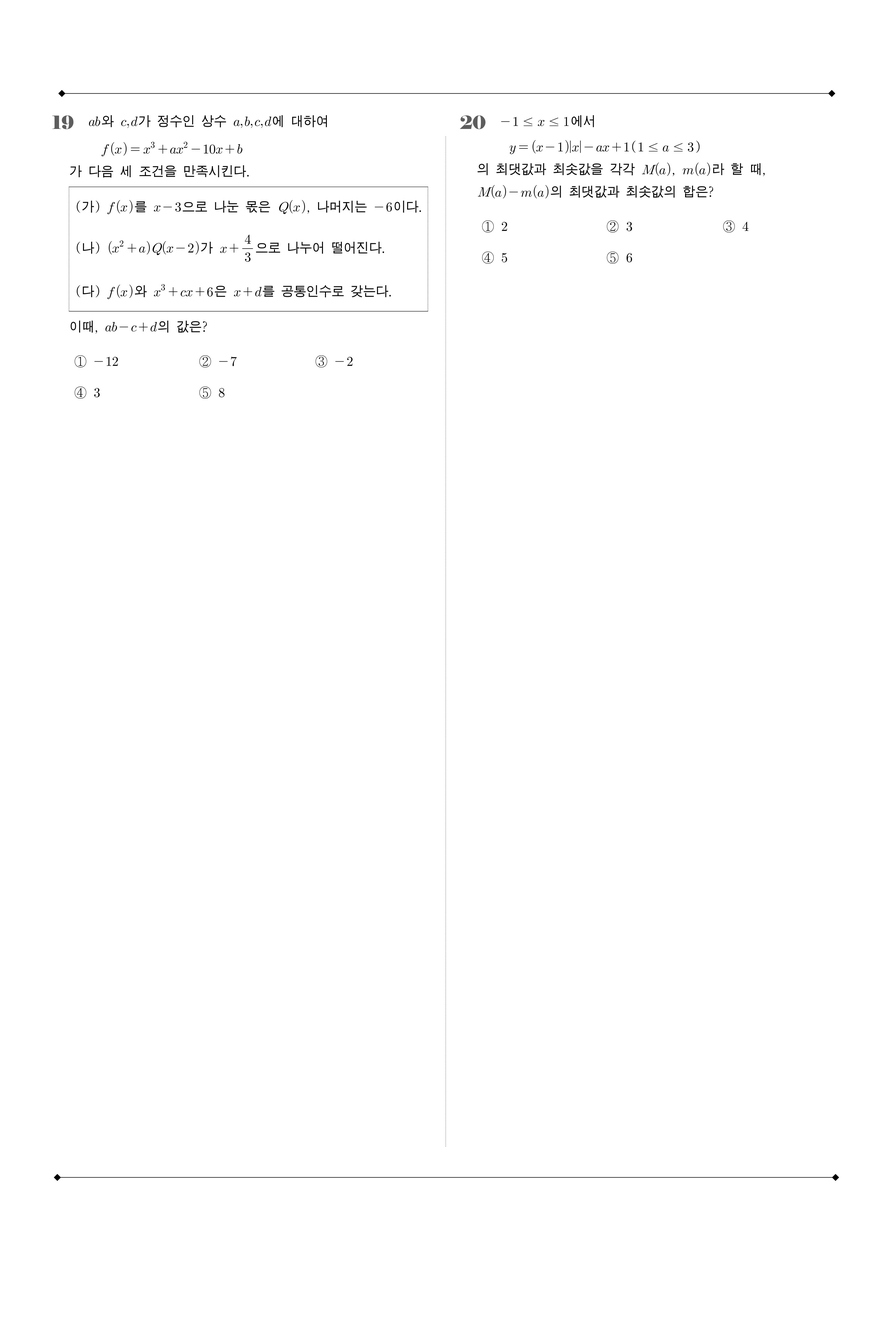problem: (46, 106, 434, 410), (450, 103, 837, 276)
